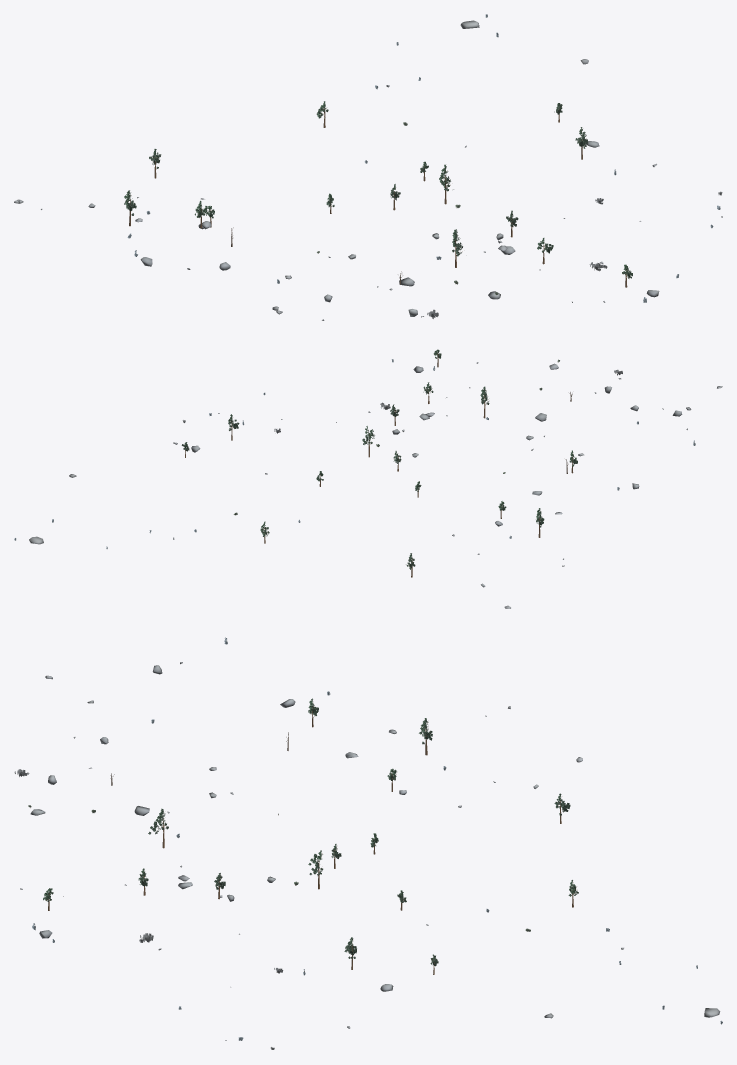
The model's file is frost_land_scatter_c20_11.glb.
3 renders of one model, top to bottom at view 1: azimuth 30°, elevation 25°; view 2: azimuth 150°, elevation 25°; view 3: azimuth 270°, elevation 25°, orthographic. The views are drawn at different scales.
Visible parts, largest first — view 1: frost_land_scatter_c20_11; view 2: frost_land_scatter_c20_11; view 3: frost_land_scatter_c20_11.
Boxes of the visible parts, x1,y1,x2,y2 form: frost_land_scatter_c20_11: [14, 14, 722, 320]; frost_land_scatter_c20_11: [14, 349, 722, 608]; frost_land_scatter_c20_11: [14, 637, 722, 1049].
Bounding box in the file's own units: 252 × 43.26 × 248.
